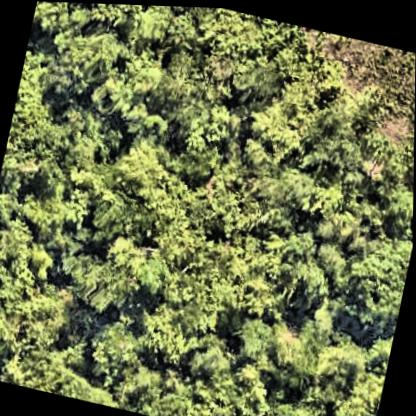tree-top: (0, 86, 109, 200), (0, 222, 71, 360), (176, 232, 278, 324), (336, 215, 414, 329), (174, 5, 301, 74), (304, 89, 382, 172), (245, 75, 319, 162), (53, 17, 135, 93), (108, 126, 181, 205), (0, 340, 96, 400), (145, 45, 220, 119), (61, 246, 141, 314), (82, 313, 151, 387), (199, 347, 270, 416), (123, 355, 202, 416), (180, 97, 239, 176), (134, 302, 202, 367), (14, 40, 67, 120), (88, 190, 165, 243), (275, 246, 339, 309), (18, 179, 80, 240), (377, 112, 415, 202), (206, 178, 264, 235), (231, 303, 287, 361), (264, 153, 316, 211), (330, 363, 386, 416), (134, 239, 184, 298), (308, 164, 365, 214), (280, 332, 328, 388), (225, 57, 277, 106), (190, 327, 239, 377), (277, 211, 325, 262), (265, 386, 332, 416), (310, 236, 353, 280), (80, 2, 144, 30), (333, 336, 374, 379), (379, 179, 414, 226), (32, 1, 79, 34), (315, 210, 354, 247)
